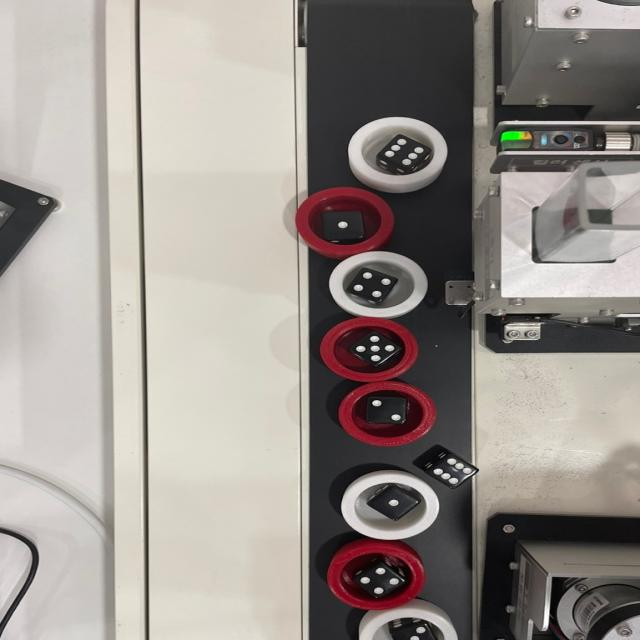DICE1: (374, 491, 412, 515), (326, 211, 359, 233)
DICE2: (369, 398, 410, 424)
DICE3: (399, 624, 431, 640)
DICE4: (359, 566, 403, 594), (351, 273, 392, 299)
DICE5: (354, 335, 397, 361)
DICE6: (430, 456, 479, 485), (386, 138, 426, 165)
RedChip: (294, 186, 391, 252), (318, 318, 417, 380), (326, 547, 426, 607), (339, 383, 431, 446)
WhiteChip: (350, 118, 448, 186), (328, 252, 426, 316), (343, 473, 438, 539), (357, 608, 458, 640)
